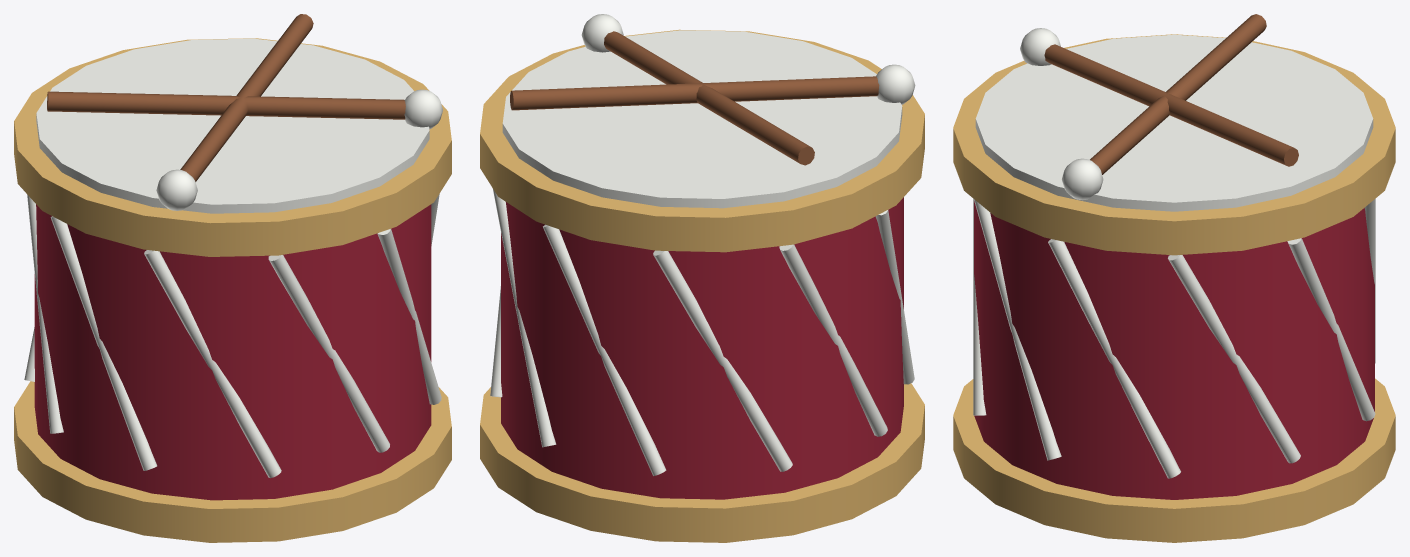
File: christmas-storybook-marching-drum-65df33f0__18756.glb
3 renders of one model, left to right at view 1: azimuth 30°, elevation 25°; view 2: azimuth 150°, elevation 25°; view 3: azimuth 270°, elevation 25°, orthographic.
Parts seen in each view (by area): view 1: berry, cream, brass, oak; view 2: berry, cream, brass, oak; view 3: berry, cream, brass, oak.
Boxes of the visible parts, box(x1,y1,x2,y2) form: berry: box(34, 204, 431, 500); cream: box(24, 38, 442, 478); brass: box(14, 38, 451, 542); oak: box(47, 14, 405, 181); berry: box(501, 197, 903, 499); cream: box(490, 14, 915, 475); brass: box(480, 29, 924, 542); oak: box(510, 31, 879, 165); berry: box(974, 201, 1374, 499); cream: box(973, 28, 1375, 478); brass: box(953, 34, 1395, 542); oak: box(1044, 14, 1298, 174).
Size of the model in its own units: 0.53 by 0.4818 by 0.53.
